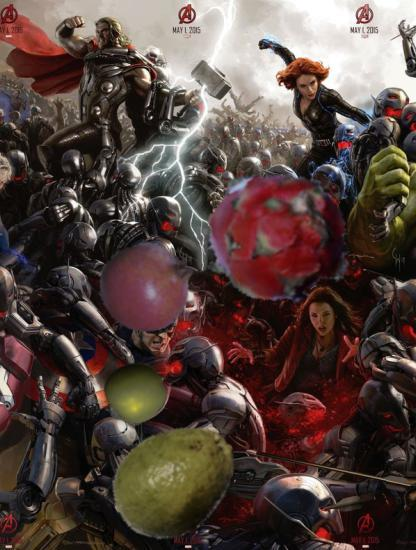Apple: (102, 361, 167, 426)
Guava: (110, 416, 243, 549)
Pitahaya: (199, 162, 347, 310)
Pomegranate: (99, 236, 198, 335)
